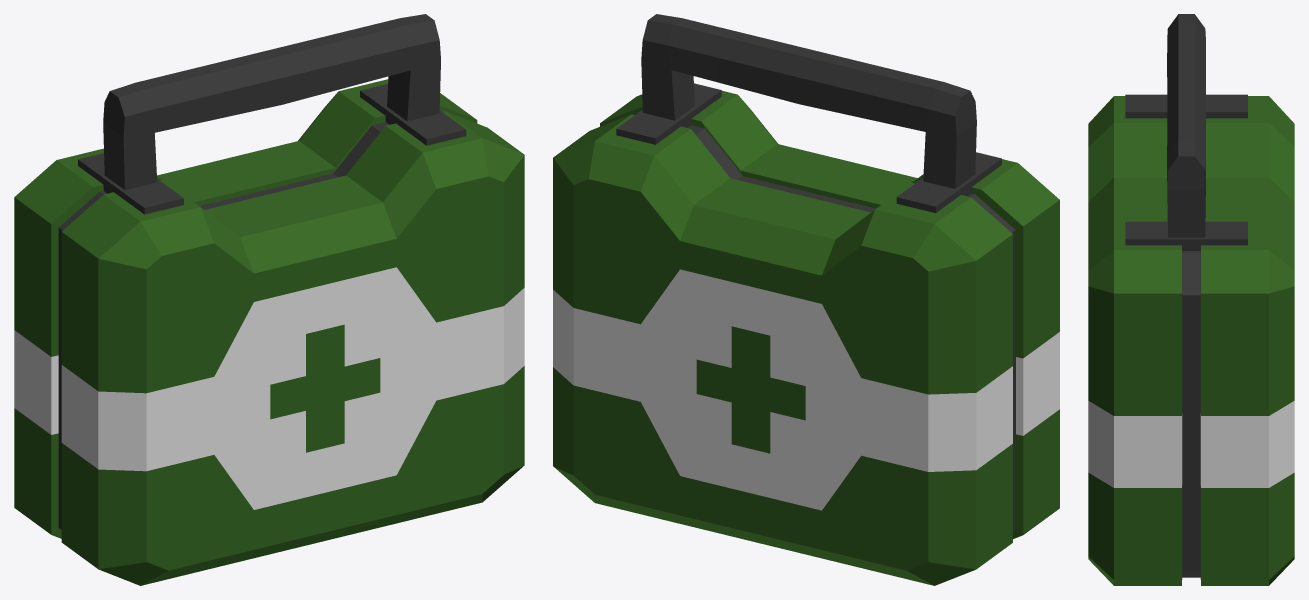
The model's file is Pickup Health.glb.
3 views of the same model, side by side, from view 1: azimuth 30°, elevation 25°; view 2: azimuth 150°, elevation 25°; view 3: azimuth 270°, elevation 25° (orthographic). The views are drawn at different scales.
Parts seen in each view (by area): view 1: Pickup_Health; view 2: Pickup_Health; view 3: Pickup_Health.
Boxes of the visible parts, left/top/right/bottom form: Pickup_Health: left=14, top=14, right=524, bottom=585; Pickup_Health: left=553, top=14, right=1059, bottom=585; Pickup_Health: left=1088, top=14, right=1294, bottom=585.
Size of the model in its own units: 0.9694 by 1 by 0.4402.
Materials: 1 (1 with a texture image).
